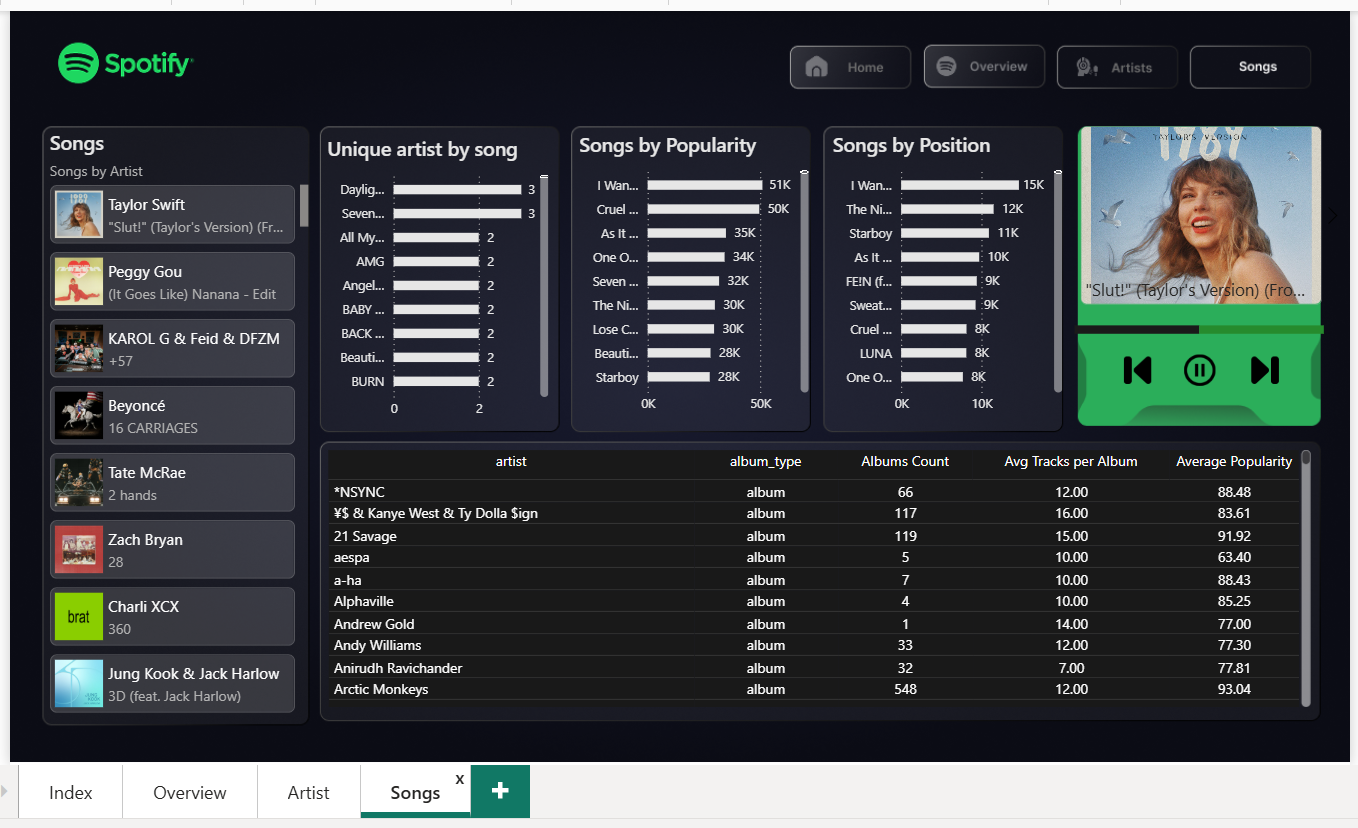

The page's visual inventory and layout, read from the dashboard file:
{"tool":"powerbi","page":{"name":"Songs","canvas":[1280,720],"ordinal":3},"visuals":[{"type":"actionButton","box":[741.8,31.3,116.1,39.8],"z":0},{"type":"actionButton","box":[869,31.3,116.1,39.8],"z":1000},{"type":"actionButton","box":[996.3,31.3,116.1,39.8],"z":2000},{"type":"actionButton","box":[1125.1,31.3,116.1,39.8],"z":3000},{"type":"advancedSlicerVisual","title":"Songs ","fields":{"Values":["Top-50-World.song"]},"box":[997.3,105,281.5,181.3],"z":4000},{"type":"hundredPercentStackedBarChart","fields":{"Y":["_Measures.Average Popularity","Avg(Top-50-World.popularity)"]},"box":[1011.2,265.1,248.1,71.6],"z":5000},{"type":"image","box":[1057.3,327.7,39.8,30.2],"z":6000},{"type":"image","box":[1115.4,327.7,40,30],"z":7000},{"type":"image","box":[1178.2,328.7,39.8,30.2],"z":8000},{"type":"shape","box":[1020.7,104.5,225.9,292.7],"z":9000},{"type":"advancedSlicerVisual","title":"Songs ","fields":{"Values":["Top-50-World.song"]},"box":[33.4,112.9,257.7,567.8],"z":13000},{"type":"tableEx","fields":{"Values":["Top-50-World.artist","Top-50-World.album_type","_Measures.Albums Count","_Measures.Avg Tracks per Album","_Measures.Average Popularity"]},"box":[297.9,413.5,949,255.6],"z":14000},{"type":"clusteredBarChart","title":"Unique artist by song","fields":{"Y":["_Measures.Unique Artists"],"Category":["Top-50-World.song"]},"box":[297.4,119.3,221.1,278.4],"z":14001},{"type":"clusteredBarChart","title":" Songs by Popularity","fields":{"Category":["Top-50-World.song"],"Y":["Sum(Top-50-World.popularity)"]},"box":[539.2,114.5,229,278.4],"z":14002},{"type":"clusteredBarChart","title":" Songs by Position","fields":{"Category":["Top-50-World.song"],"Y":["Sum(Top-50-World.position)"]},"box":[781,114.5,229,278.4],"z":14003}]}

Visuals, with their boxes on the page's 1280x720 design canvas (x1, y1, x2, y2). These are canvas units, not pixel positions in the 1358x828 screenshot, which may show the page scaled, cropped or inside an application window:
actionButton: bbox(742, 31, 858, 71)
actionButton: bbox(869, 31, 985, 71)
actionButton: bbox(996, 31, 1112, 71)
actionButton: bbox(1125, 31, 1241, 71)
"Songs " advancedSlicerVisual: bbox(997, 105, 1279, 286)
hundredPercentStackedBarChart - _Measures.Average Popularity x Avg(Top-50-World.popularity): bbox(1011, 265, 1259, 337)
image: bbox(1057, 328, 1097, 358)
image: bbox(1115, 328, 1155, 358)
image: bbox(1178, 329, 1218, 359)
shape: bbox(1021, 104, 1247, 397)
"Songs " advancedSlicerVisual: bbox(33, 113, 291, 681)
tableEx - Top-50-World.artist x Top-50-World.album_type: bbox(298, 414, 1247, 669)
"Unique artist by song" clusteredBarChart: bbox(297, 119, 518, 398)
" Songs by Popularity" clusteredBarChart: bbox(539, 114, 768, 393)
" Songs by Position" clusteredBarChart: bbox(781, 114, 1010, 393)
